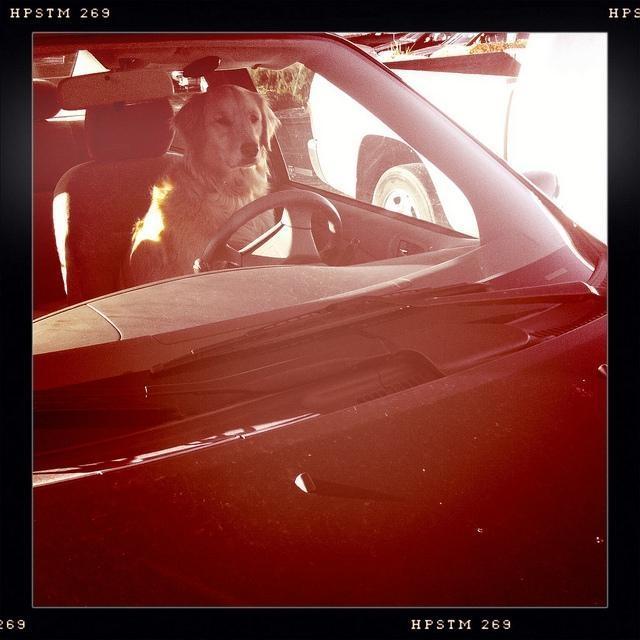car: (31, 31, 610, 608)
truck: (305, 33, 617, 250)
